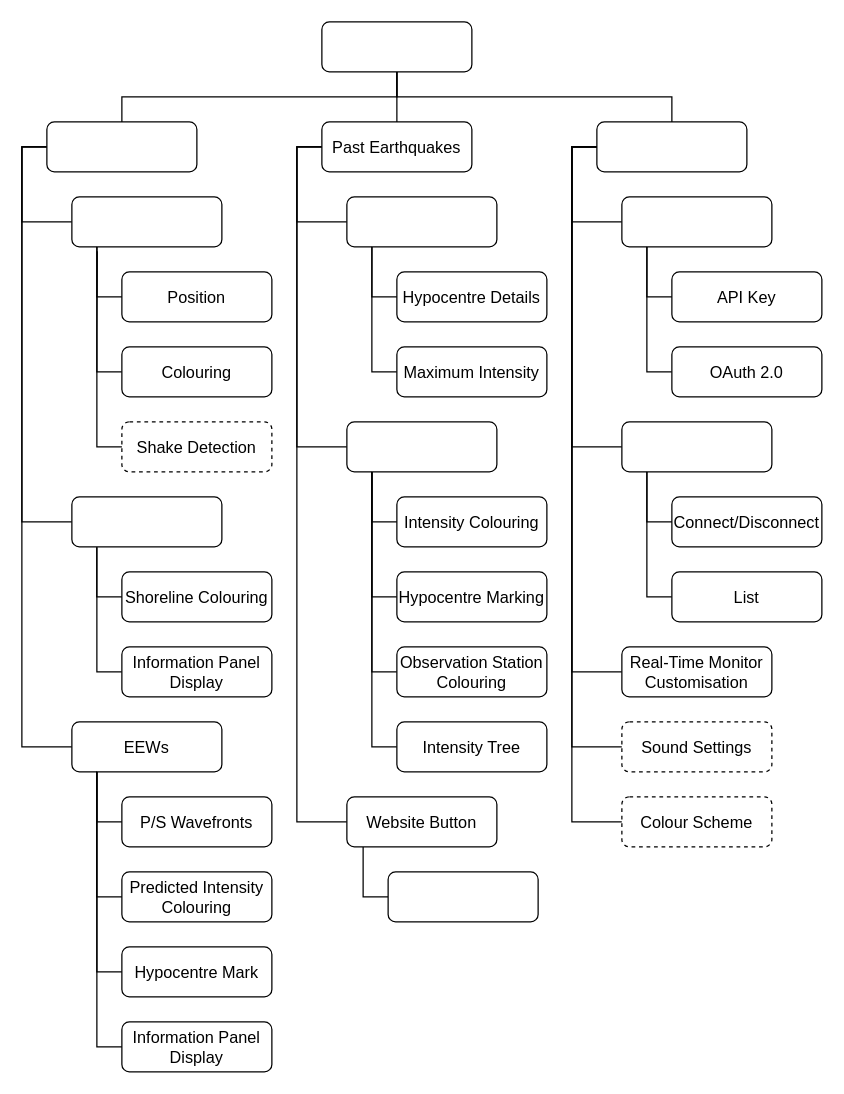
The diagram is 844 pixels wide and 1094 high, and some of its shapes have lost their labels. Here are the shapes that lost their labels. From the top down, the box of each, then its label:
(321, 21, 472, 72): GUI
(46, 121, 197, 172): Real-Time Monitoring
(596, 121, 747, 172): Configuration
(71, 196, 222, 247): Real Time Observation Points
(346, 196, 497, 247): Sidebar List
(621, 196, 772, 247): Authorisation
(346, 421, 497, 472): Detail Information Display
(621, 421, 772, 472): WebSocket
(71, 496, 222, 547): Tsunami Warnings
(387, 871, 538, 922): External Weather Provider
